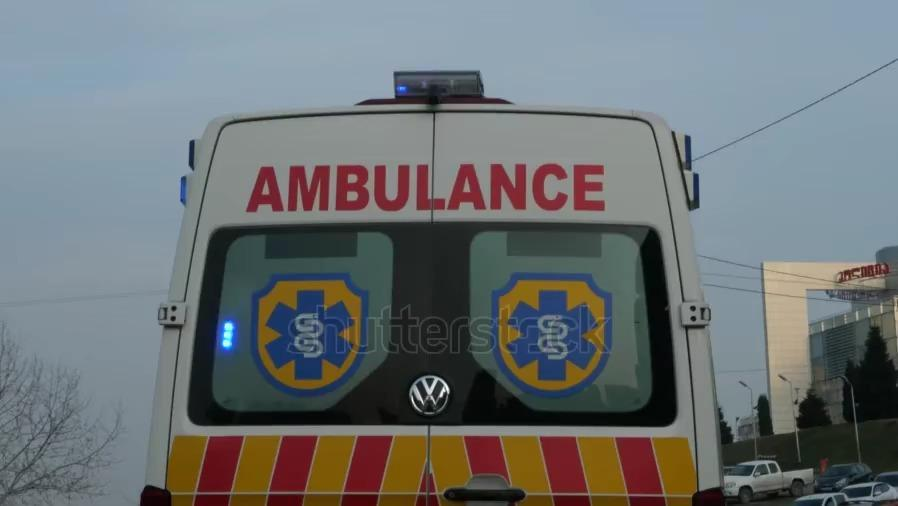Ambulance: (246, 164, 605, 215)
